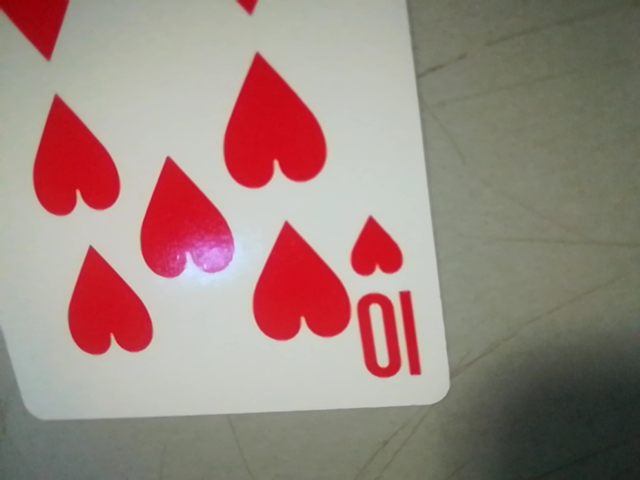hx 10: (342, 201, 436, 394)
